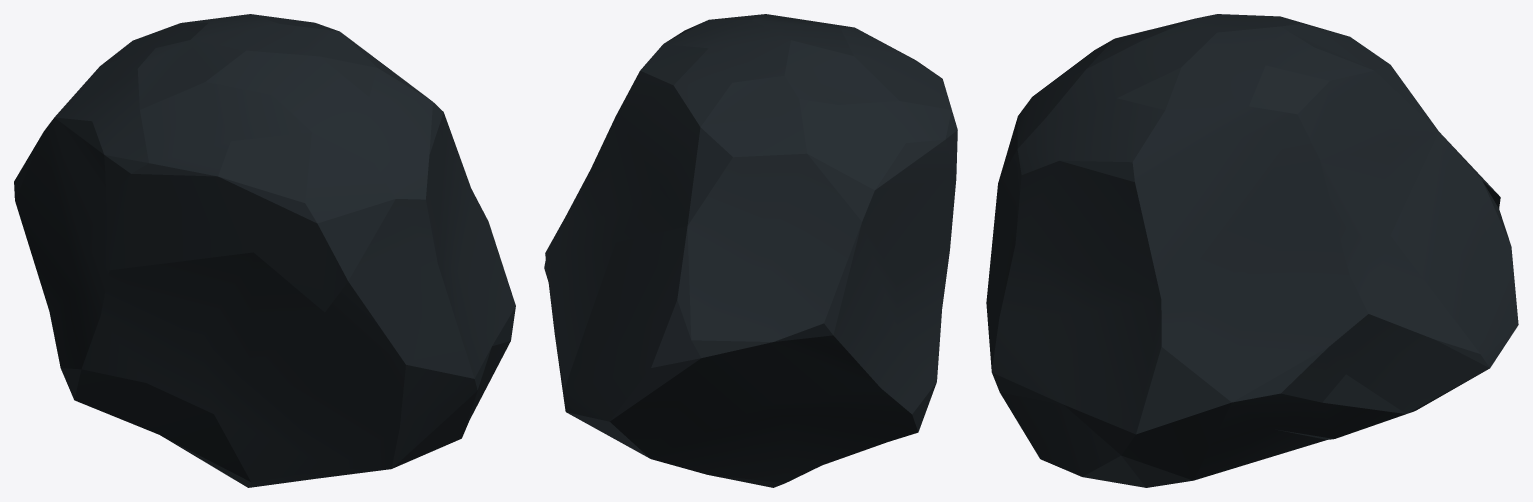
Rendered from Asteroid_s_34.FBX.
The picture shows the model from 3 angles, left to right: view 1: azimuth 30°, elevation 25°; view 2: azimuth 150°, elevation 25°; view 3: azimuth 270°, elevation 25°; orthographic projection. The views are drawn at different scales.
Visible parts, largest first — view 1: Asteroid_s_34; view 2: Asteroid_s_34; view 3: Asteroid_s_34.
Part boxes in pixels (x1,y1,x2,y2): Asteroid_s_34: (14,14,515,487); Asteroid_s_34: (544,14,957,487); Asteroid_s_34: (986,14,1518,487).
Bounding box in the file's own units: 152 × 154 × 179.
